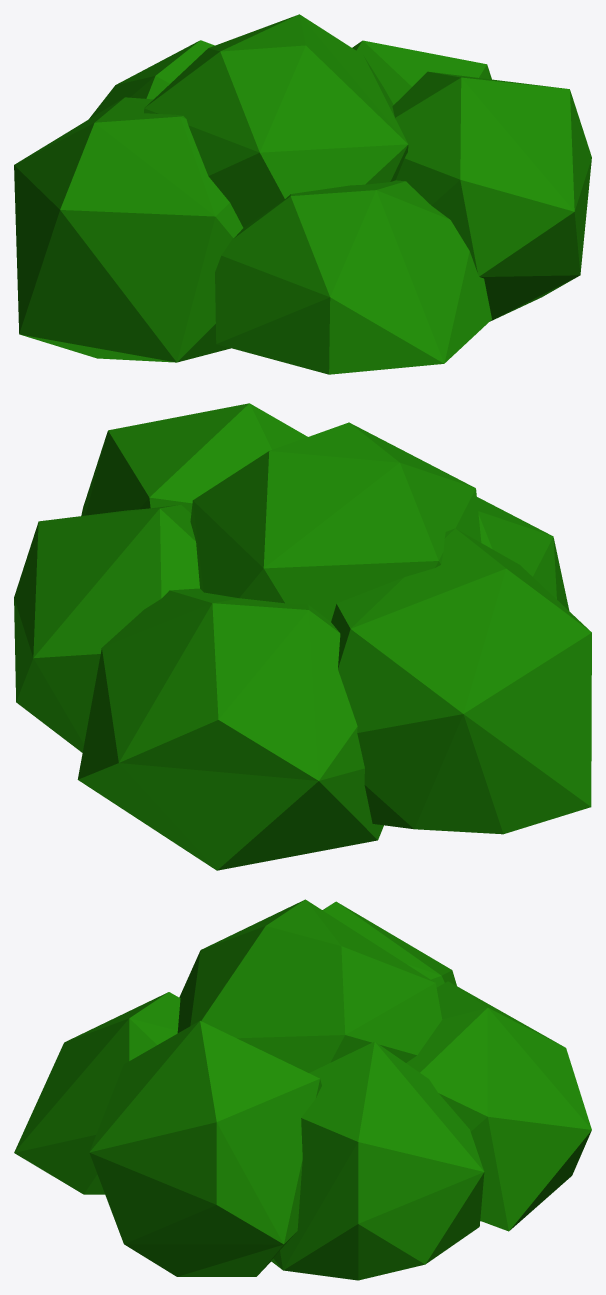
Rendered from bush_4.fbx.
3 renders of one model, top to bottom at view 1: azimuth 30°, elevation 25°; view 2: azimuth 150°, elevation 25°; view 3: azimuth 270°, elevation 25°, orthographic. The views are drawn at different scales.
Visible parts, largest first — view 1: bush_4; view 2: bush_4; view 3: bush_4.
Boxes of the visible parts, x1,y1,x2,y2 form: bush_4: [14, 14, 591, 374]; bush_4: [14, 403, 591, 870]; bush_4: [14, 899, 591, 1280].
Size of the model in its own units: 291 by 149 by 291.
